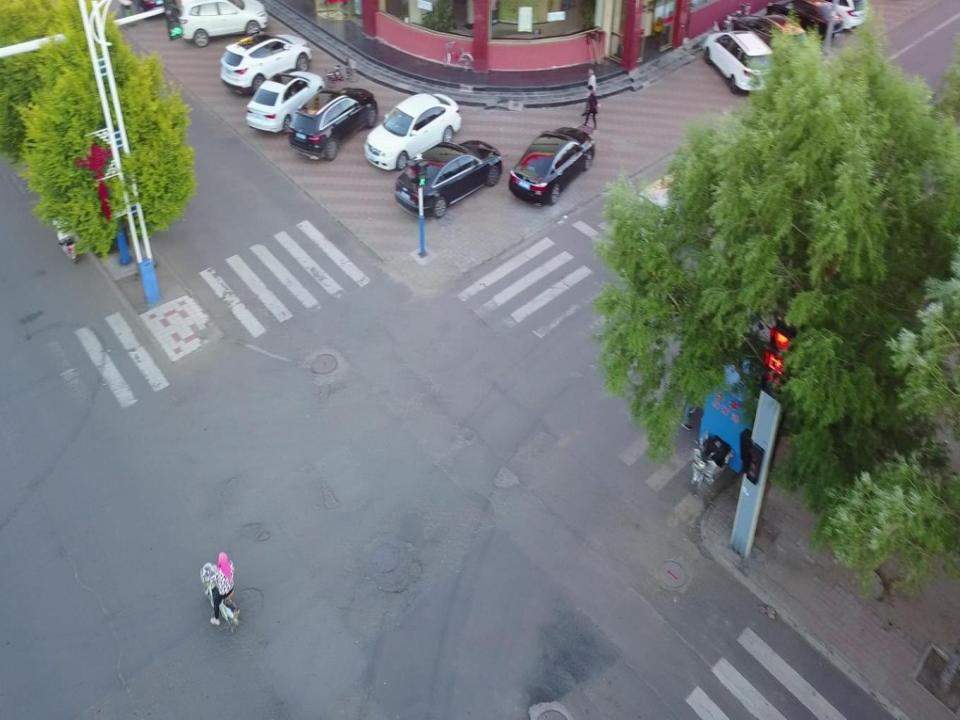car: (394, 140, 502, 219), (364, 94, 462, 171), (509, 127, 595, 205), (245, 70, 325, 134), (766, 0, 843, 41)
van: (287, 87, 378, 161), (220, 30, 312, 96), (702, 28, 775, 95), (178, 0, 267, 48), (733, 14, 806, 66), (803, 0, 869, 29)
